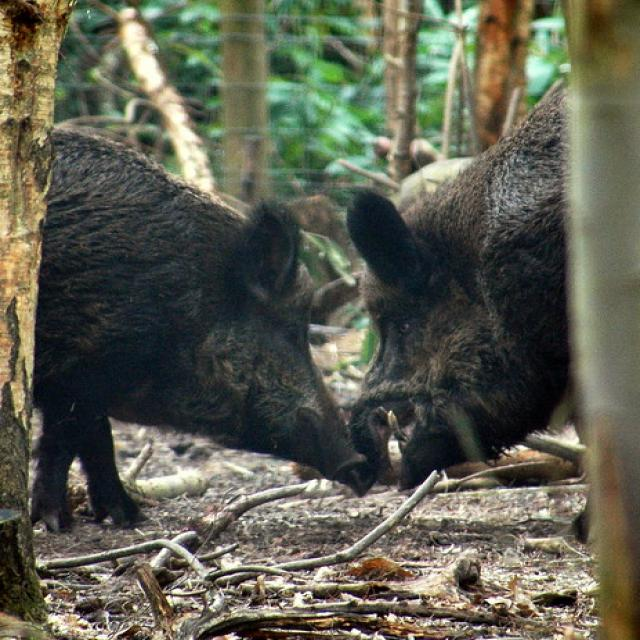boar: (0, 105, 369, 523), (341, 39, 640, 500)
